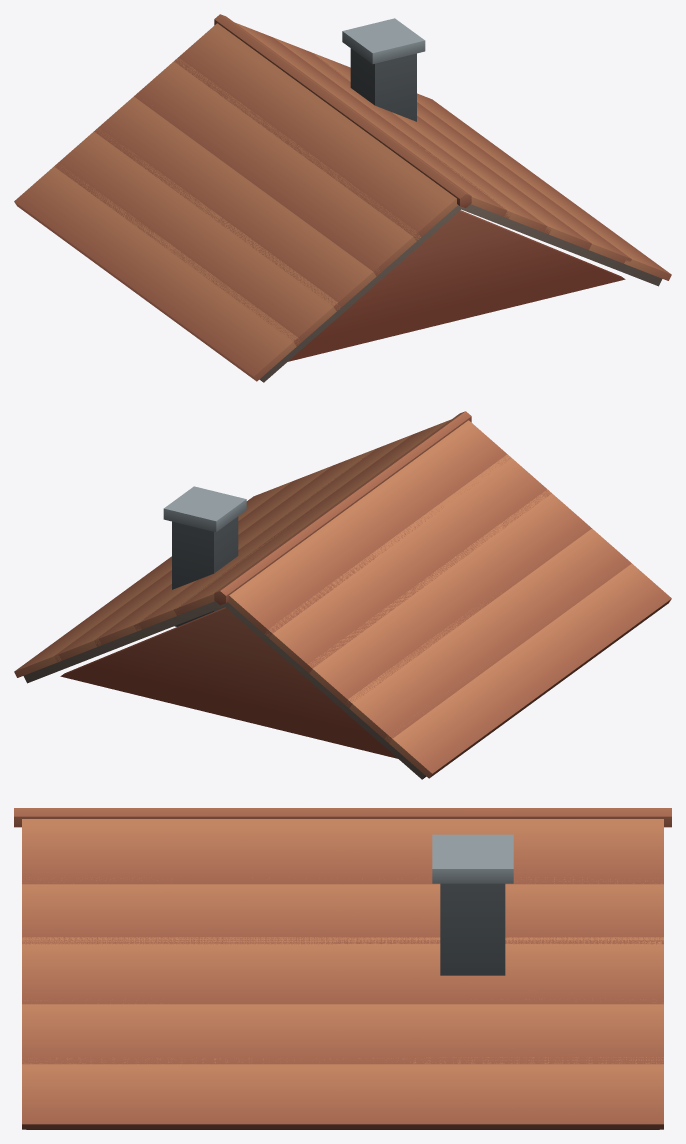
File: roof_gable.glb
3 renders of one model, top to bottom at view 1: azimuth 30°, elevation 25°; view 2: azimuth 150°, elevation 25°; view 3: azimuth 270°, elevation 25°, orthographic. The views are drawn at different scales.
Visible parts, largest first — view 1: roof_gable; view 2: roof_gable; view 3: roof_gable.
Boxes of the visible parts, x1,y1,x2,y2 form: roof_gable: (14,14,671,382); roof_gable: (14,411,671,779); roof_gable: (14,808,671,1129).
Bounding box in the file's own units: 7.96 × 2.82 × 8.1.
Materials: 1 (1 with a texture image).
